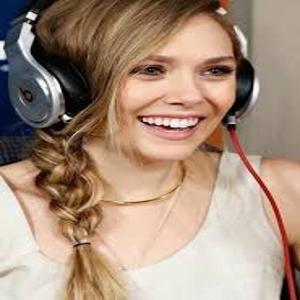Headphones: (4, 1, 262, 129)
